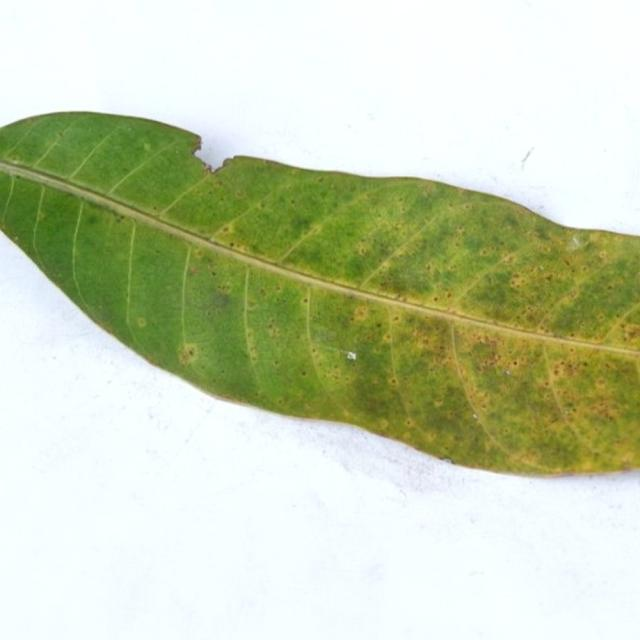Mango: (0, 113, 639, 474)
Powdery_Mildew: (555, 356, 637, 432), (399, 319, 459, 379), (471, 334, 519, 375), (473, 277, 521, 312), (551, 352, 595, 382), (204, 283, 235, 313), (171, 342, 203, 363), (510, 271, 537, 291), (473, 334, 497, 352), (293, 210, 316, 227), (622, 323, 640, 341), (352, 304, 370, 322), (379, 275, 398, 290), (553, 363, 570, 378), (216, 282, 232, 296), (297, 218, 313, 232), (220, 157, 236, 171), (267, 324, 280, 339), (501, 253, 517, 265), (85, 213, 98, 224), (479, 248, 492, 258), (377, 418, 388, 429), (137, 317, 147, 328), (598, 250, 608, 260), (188, 266, 199, 275), (356, 247, 367, 256), (433, 399, 444, 408), (8, 154, 20, 162), (202, 165, 212, 174), (448, 307, 459, 315), (37, 212, 46, 221), (235, 190, 245, 198), (143, 142, 151, 151), (213, 179, 222, 187), (566, 401, 575, 409), (563, 259, 571, 267), (268, 322, 275, 331), (397, 295, 406, 302), (389, 378, 397, 385), (544, 274, 552, 281), (116, 215, 124, 222), (456, 226, 464, 233), (426, 264, 433, 271), (291, 168, 299, 174), (394, 293, 402, 299), (222, 226, 229, 232), (259, 289, 266, 295), (405, 420, 412, 426), (277, 398, 284, 404), (264, 160, 271, 166), (445, 292, 451, 298), (375, 322, 381, 328), (259, 203, 265, 209), (568, 332, 575, 337), (433, 297, 439, 302), (393, 316, 399, 321), (607, 285, 613, 290), (229, 242, 235, 247), (154, 249, 160, 254), (303, 298, 308, 303), (301, 371, 306, 376), (211, 271, 216, 276), (290, 199, 295, 204), (219, 369, 224, 374), (312, 348, 316, 353), (153, 206, 157, 210)
